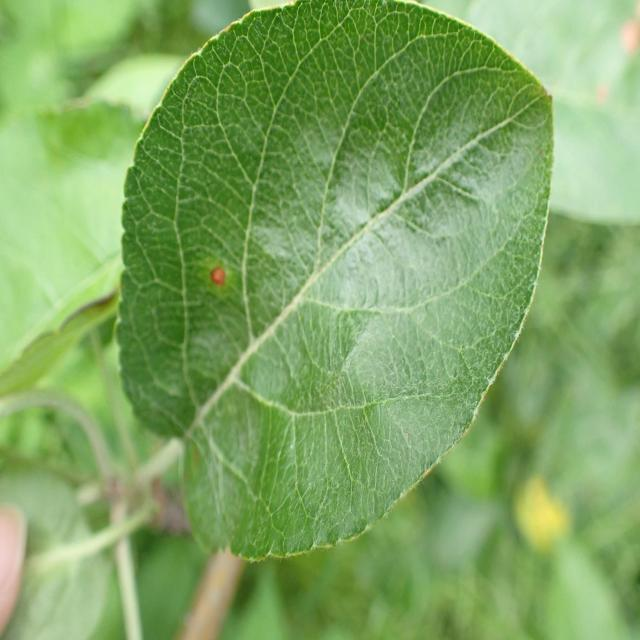Black Rot: (203, 248, 231, 313)
